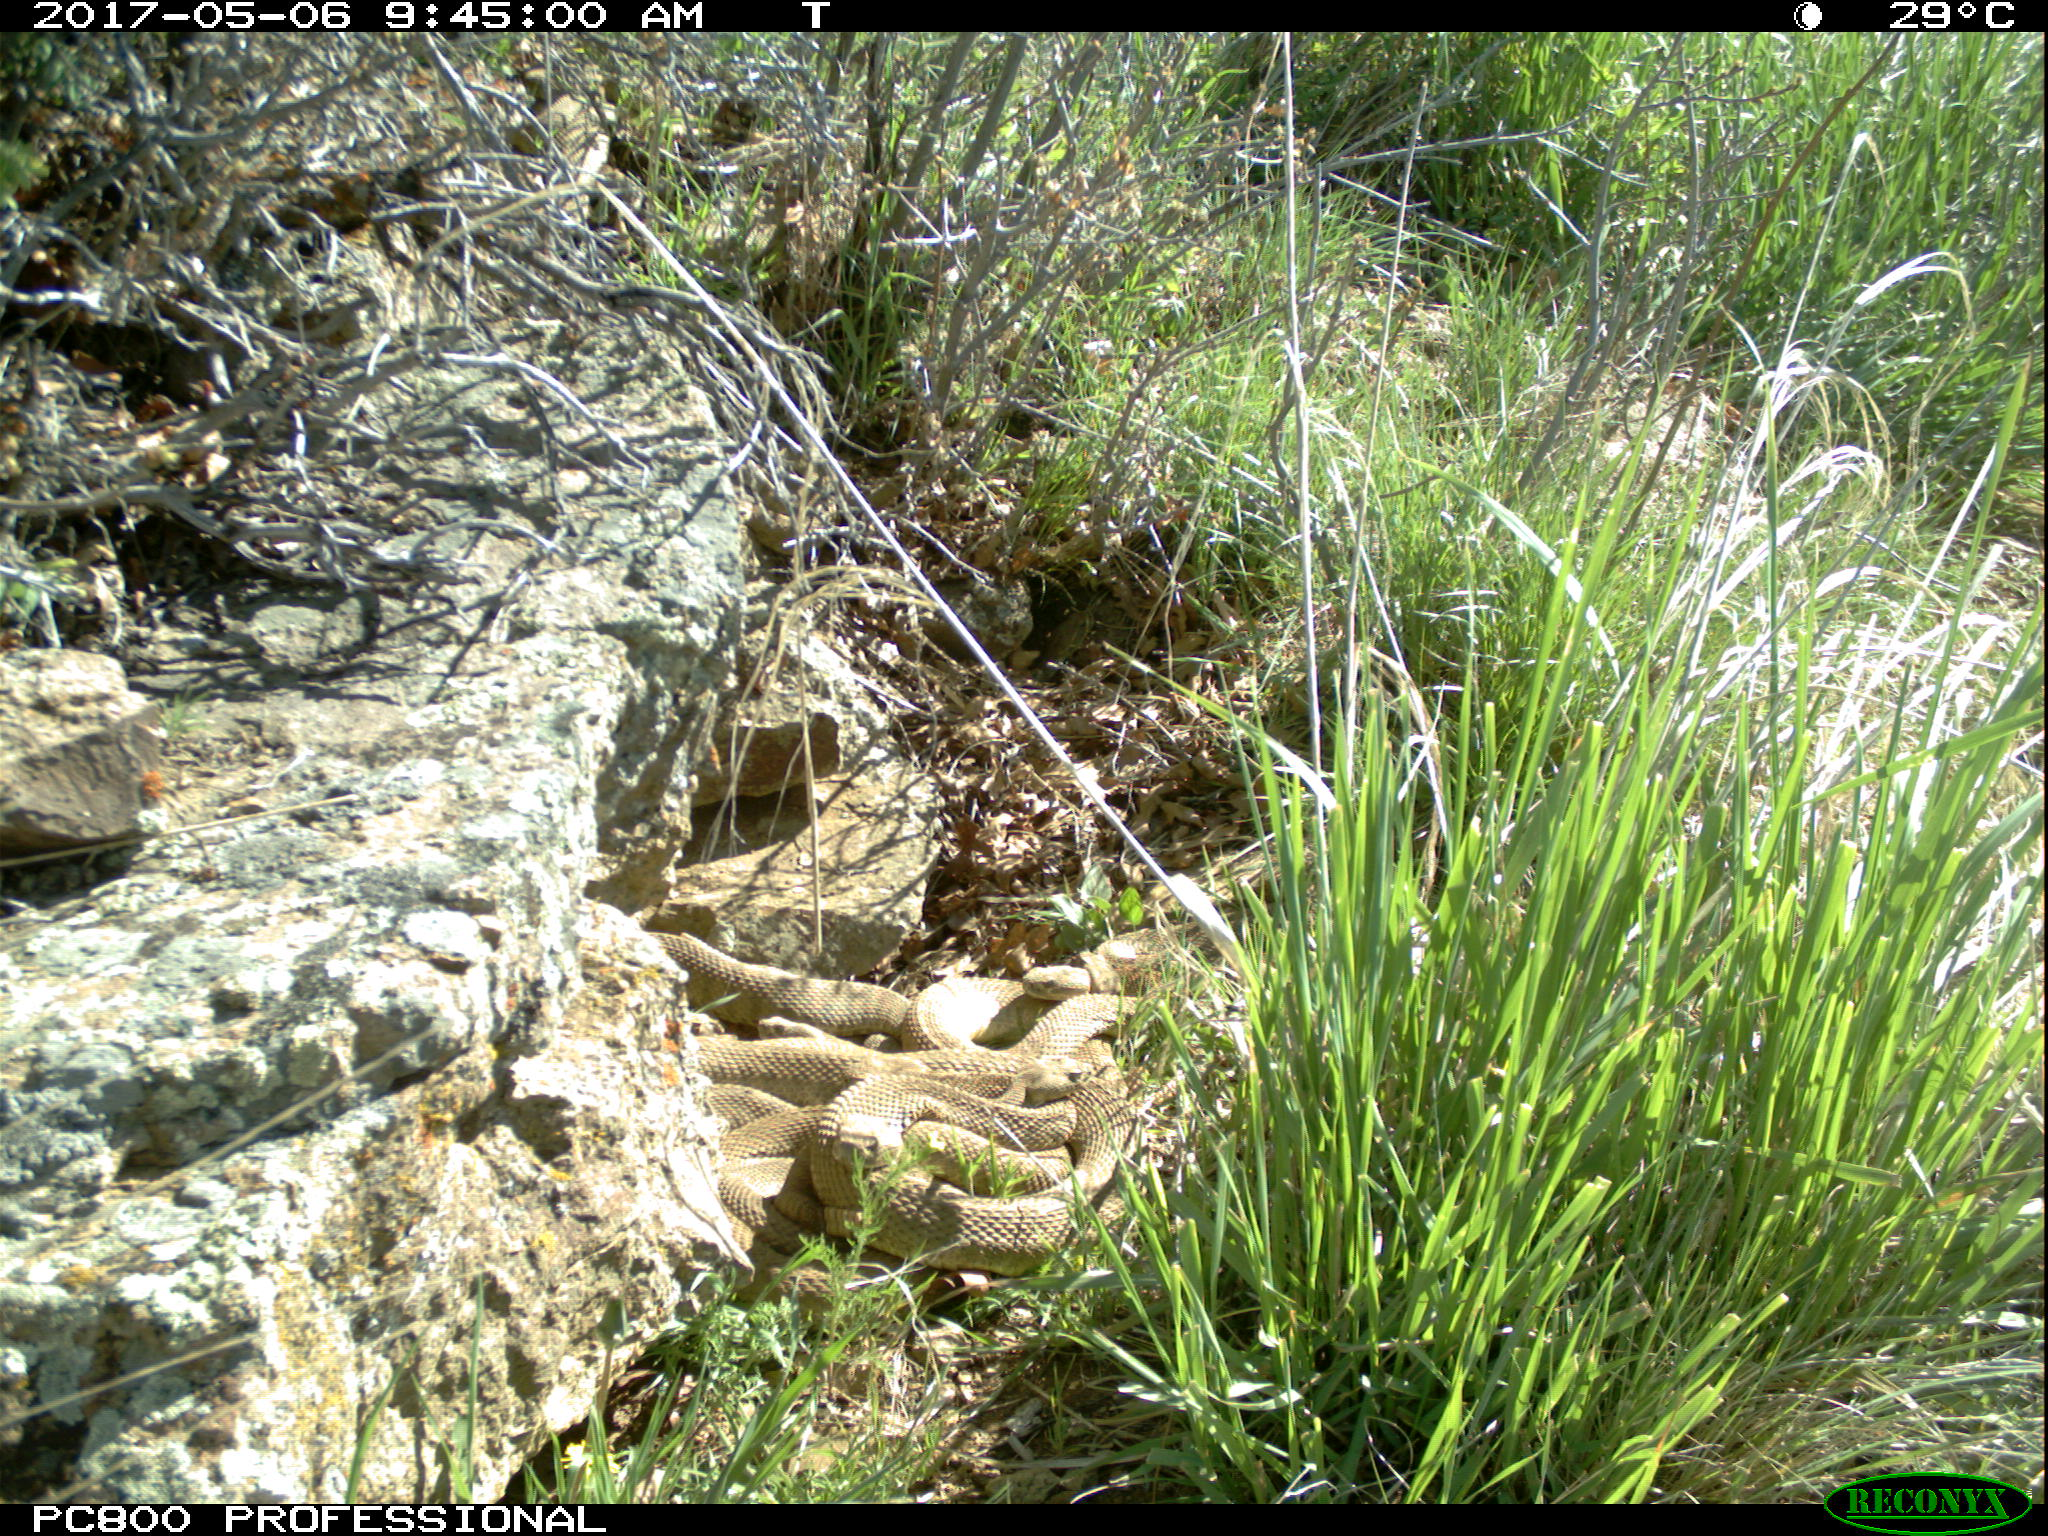snake: (705, 1070, 1103, 1279), (648, 929, 1037, 1068), (908, 984, 1148, 1167), (1089, 933, 1230, 1015)
